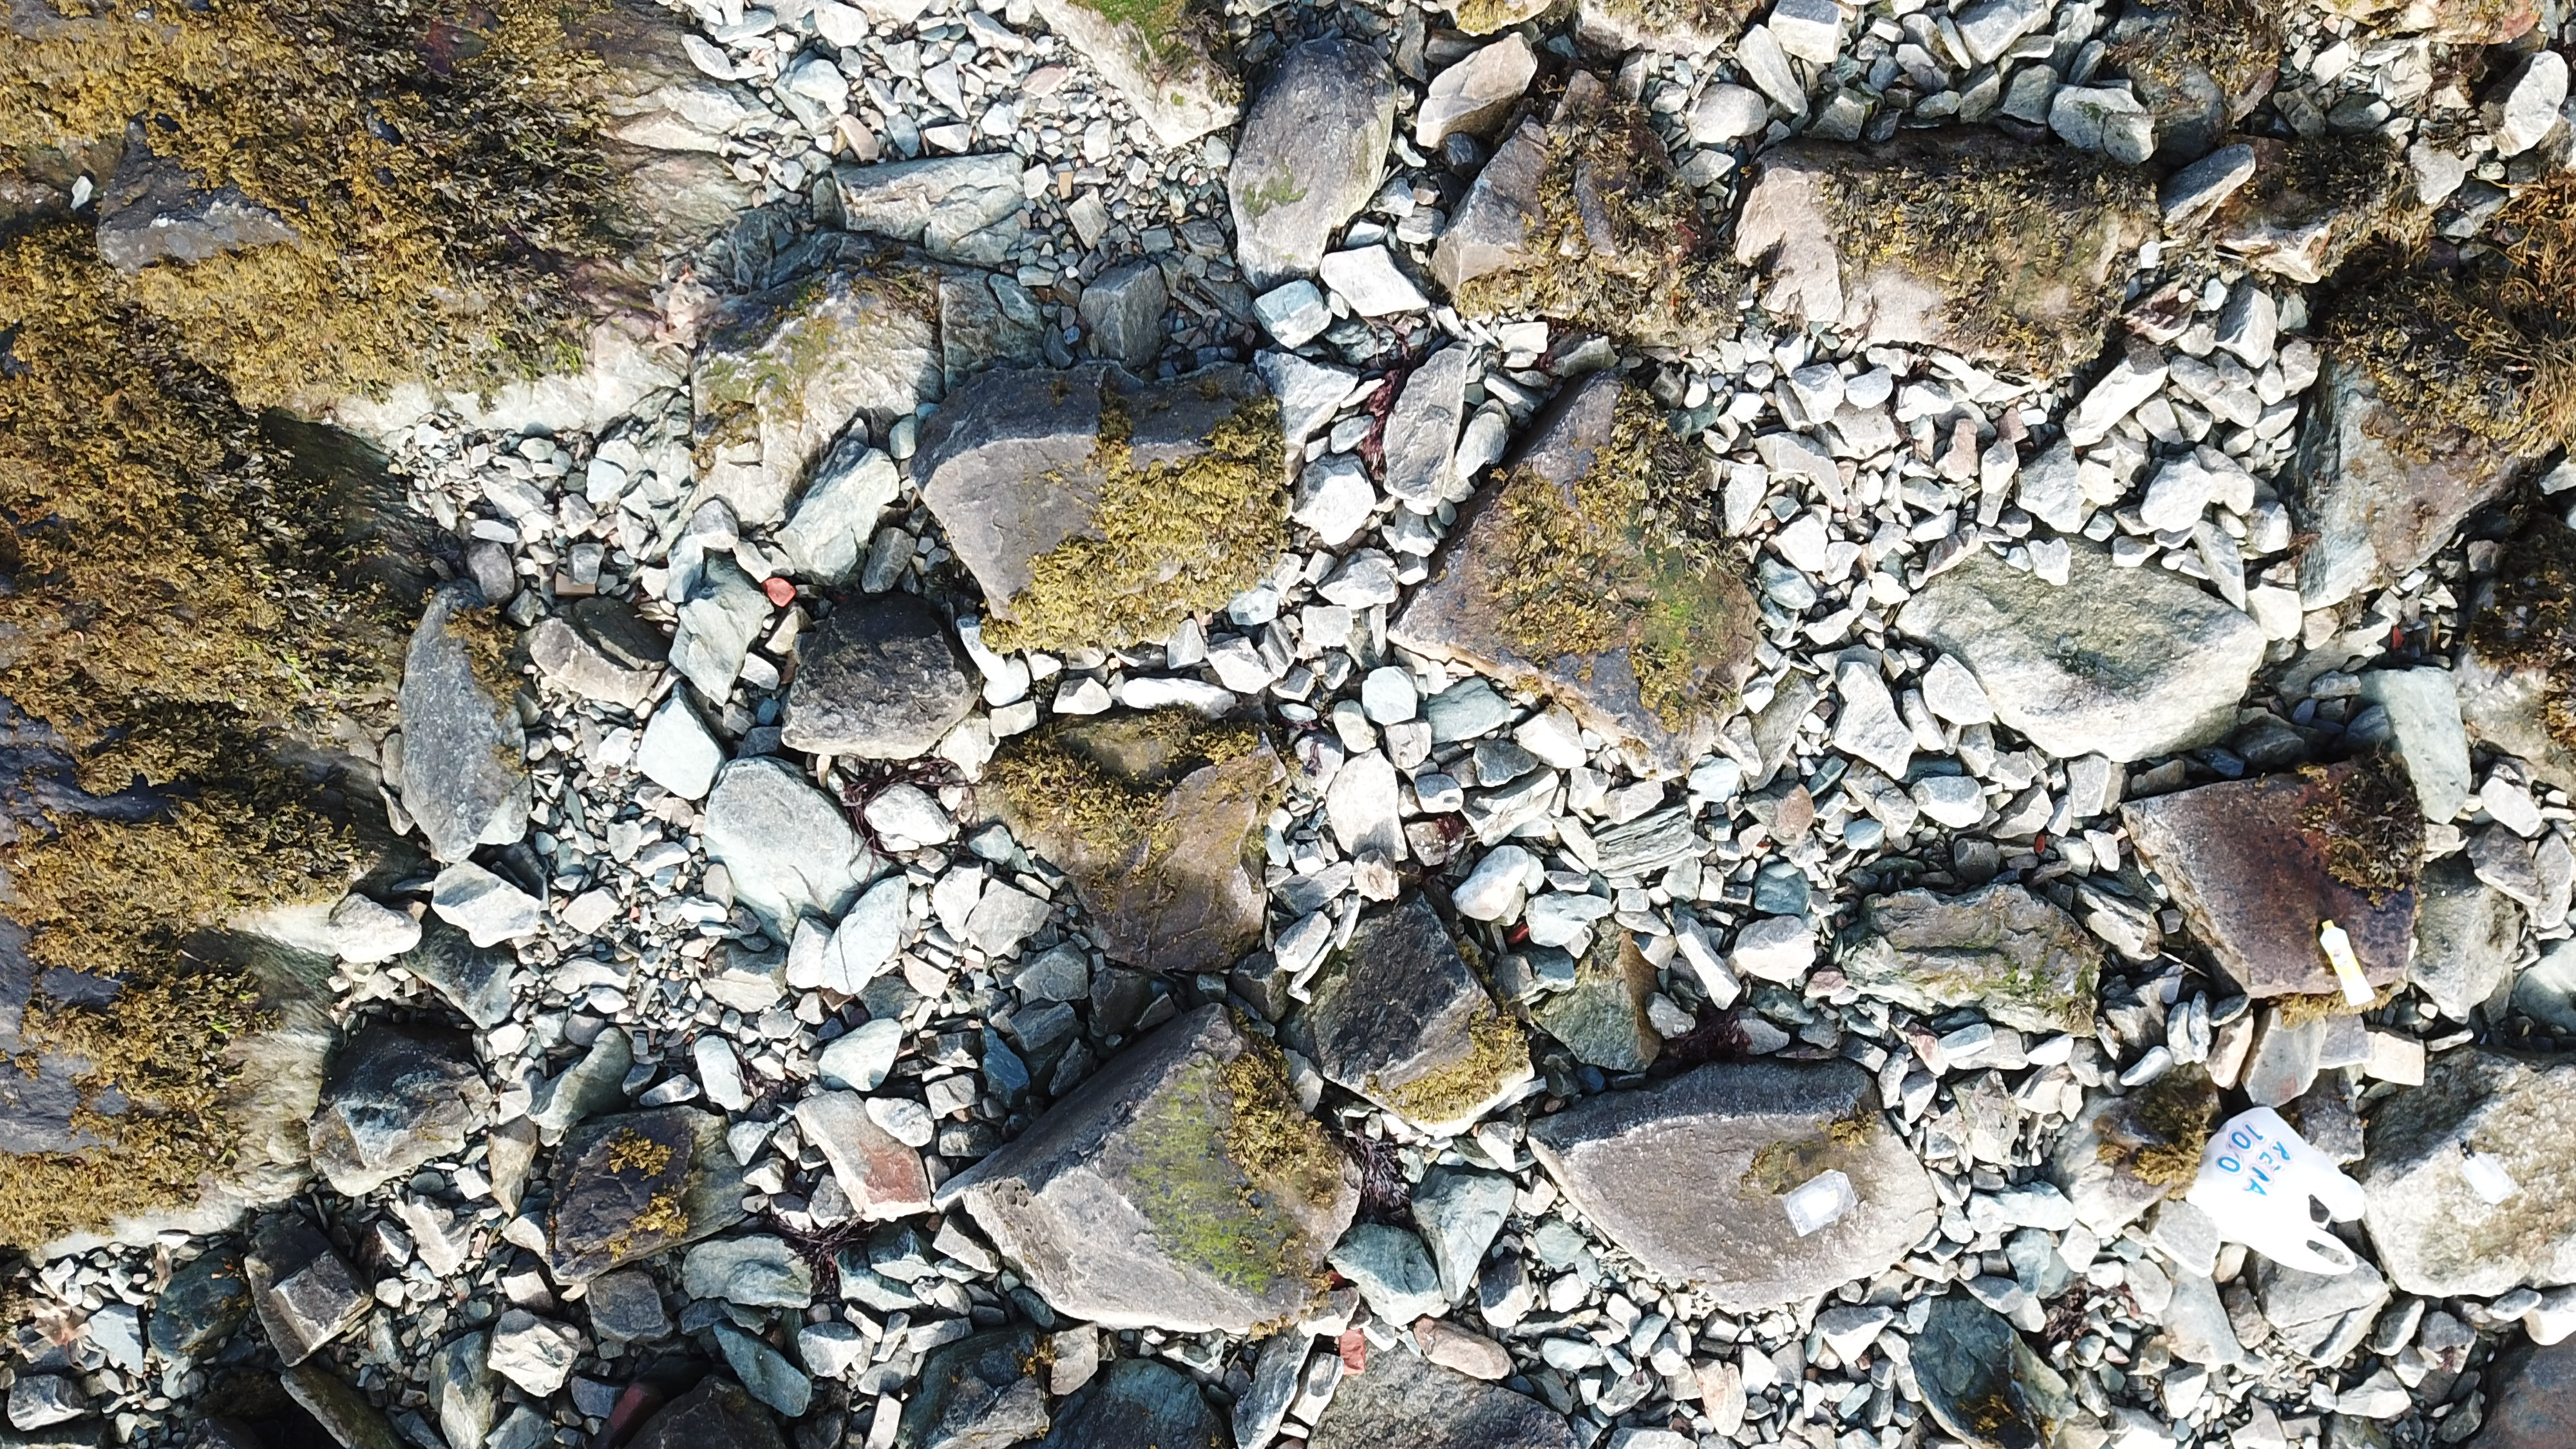Plastic: (2183, 1106, 2365, 1274), (1780, 1169, 1856, 1237), (2319, 920, 2376, 1007)
